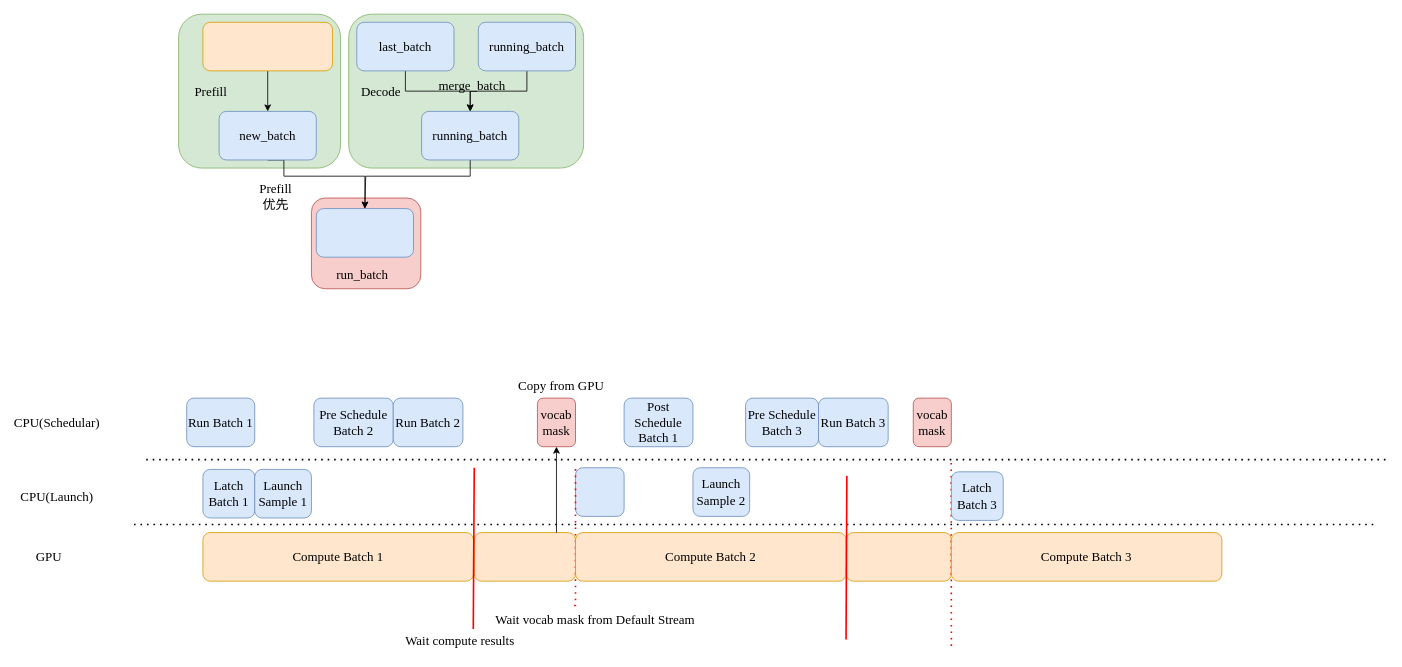
Some shapes in this 1402 by 667 pixel diagram are drawn without their labels. Here are the shapes that lost their labels. From the top down, the centre of each, then its label:
(x=267, y=46): get_next_batch_prefill
(x=364, y=232): cur_batch
(x=599, y=491): Latch Batch 2
(x=524, y=556): Sample Batch 1
(x=898, y=556): Sample Batch 2
